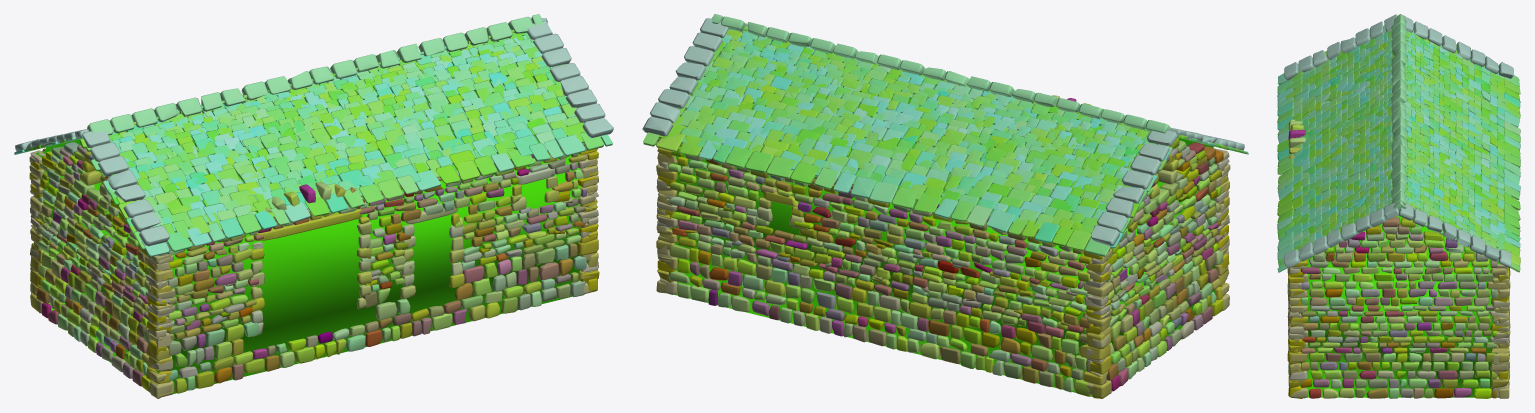
File: SM_Barn_04.glb
3 views of the same model, side by side, from view 1: azimuth 30°, elevation 25°; view 2: azimuth 150°, elevation 25°; view 3: azimuth 270°, elevation 25° (orthographic). The views are drawn at different scales.
Parts seen in each view (by area): view 1: SM_Barn_04; view 2: SM_Barn_04; view 3: SM_Barn_04.
Part boxes in pixels (x1,y1,x2,y2): SM_Barn_04: [14, 14, 613, 398]; SM_Barn_04: [642, 14, 1248, 398]; SM_Barn_04: [1277, 14, 1520, 398].
Bounding box in the file's own units: 12.78 × 5.96 × 6.61.
